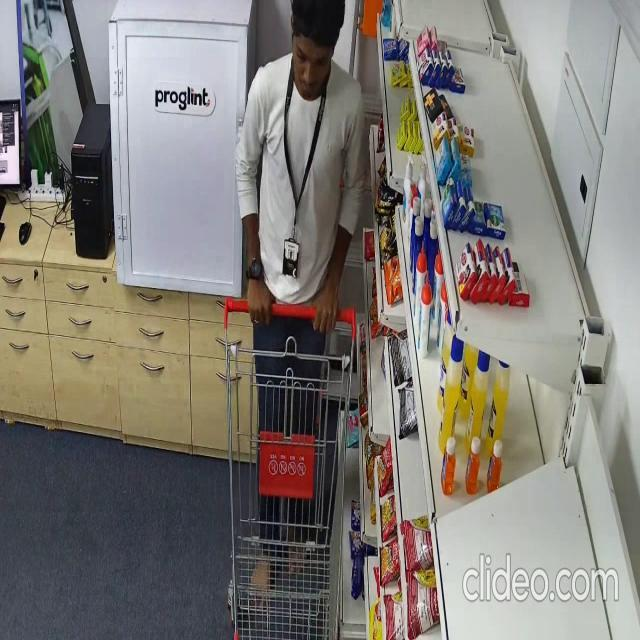normal: (232, 0, 368, 604)
